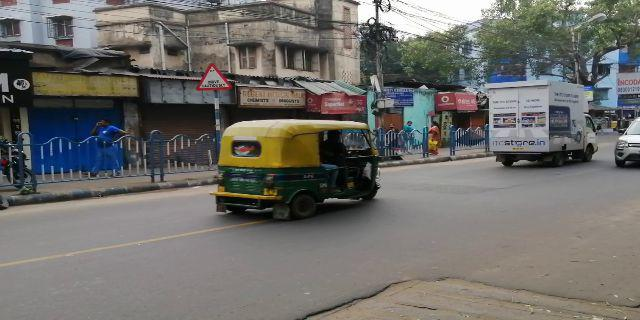Autorickshaw: (218, 115, 386, 219)
Minitruck: (484, 83, 600, 168)
